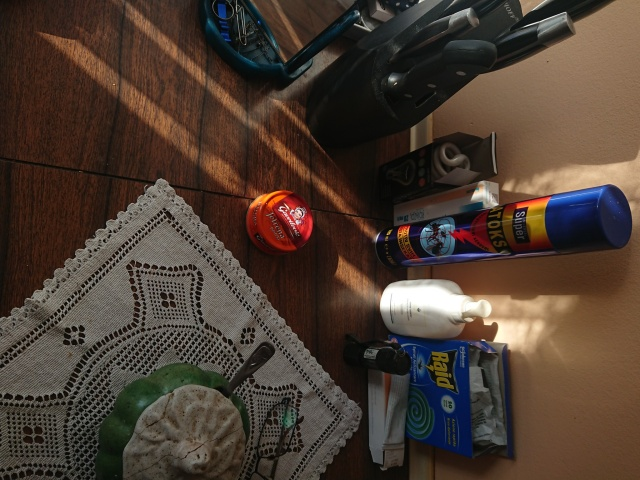Gavrilovic Pork Liver Pate 100g: (242, 187, 315, 258)
